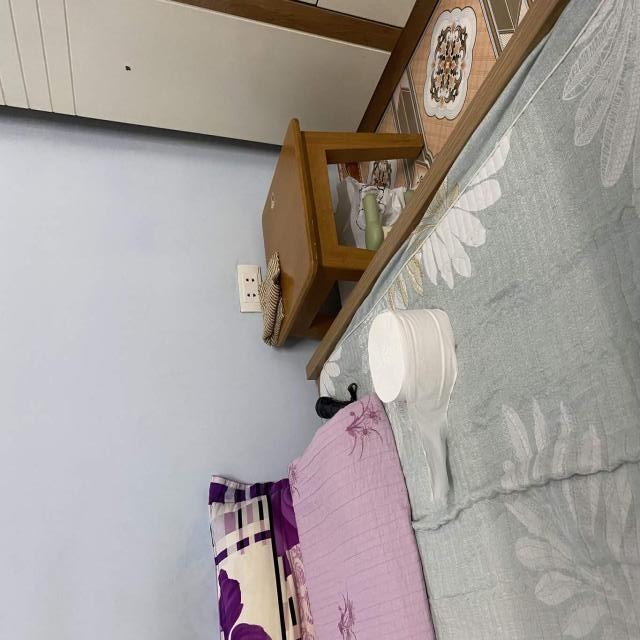outlet: (237, 264, 263, 313)
